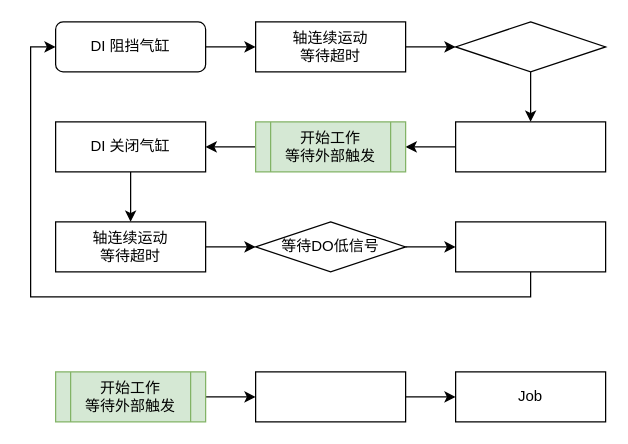
Some shapes in this 628 by 444 pixel diagram are drawn without their labels. Each missing label, with the box of its shape:
Axis 夹抱: (254, 371, 406, 422)
停止轴连续移动: (454, 121, 606, 172)
物料驶出: (454, 221, 606, 272)
等待DO高信号: (454, 21, 606, 72)
